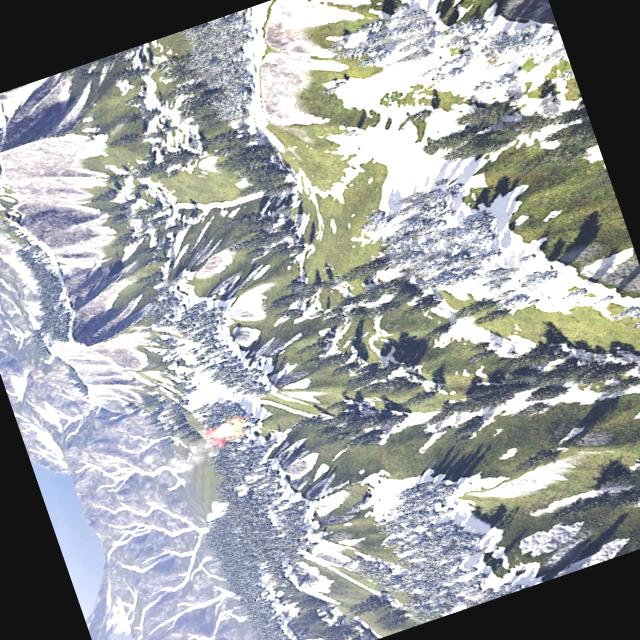fire: (210, 418, 239, 441)
smoke: (169, 433, 225, 476)
